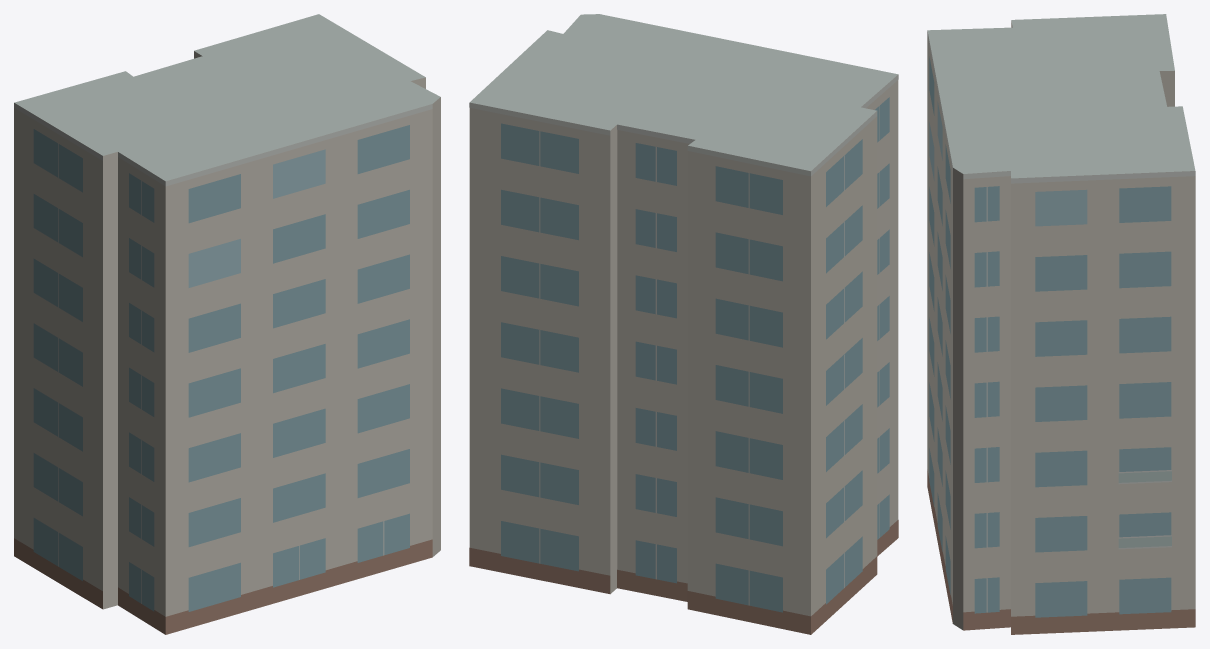
File: survey-upis-32529724.glb
The picture shows the model from 3 angles, left to right: view 1: azimuth 30°, elevation 25°; view 2: azimuth 150°, elevation 25°; view 3: azimuth 270°, elevation 25°; orthographic projection. The views are drawn at different scales.
Visible parts, largest first — view 1: survey-upis-32529724.tmp; view 2: survey-upis-32529724.tmp; view 3: survey-upis-32529724.tmp.
Part boxes in pixels (x1,y1,x2,y2): survey-upis-32529724.tmp: [14, 14, 440, 634]; survey-upis-32529724.tmp: [469, 14, 898, 634]; survey-upis-32529724.tmp: [927, 14, 1195, 634].
Size of the model in its own units: 16.62 by 21.5 by 11.45.
